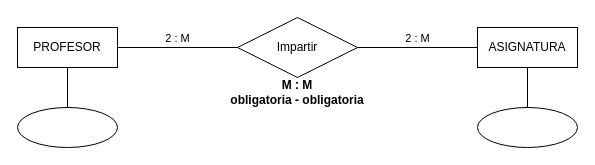
Some shapes in this 595 by 165 pixel diagram are drawn without their labels. The centre of each missing label's shape, as x and y in pixels:
codAsignatura: point (527, 127)
codProfesor: point (67, 127)
